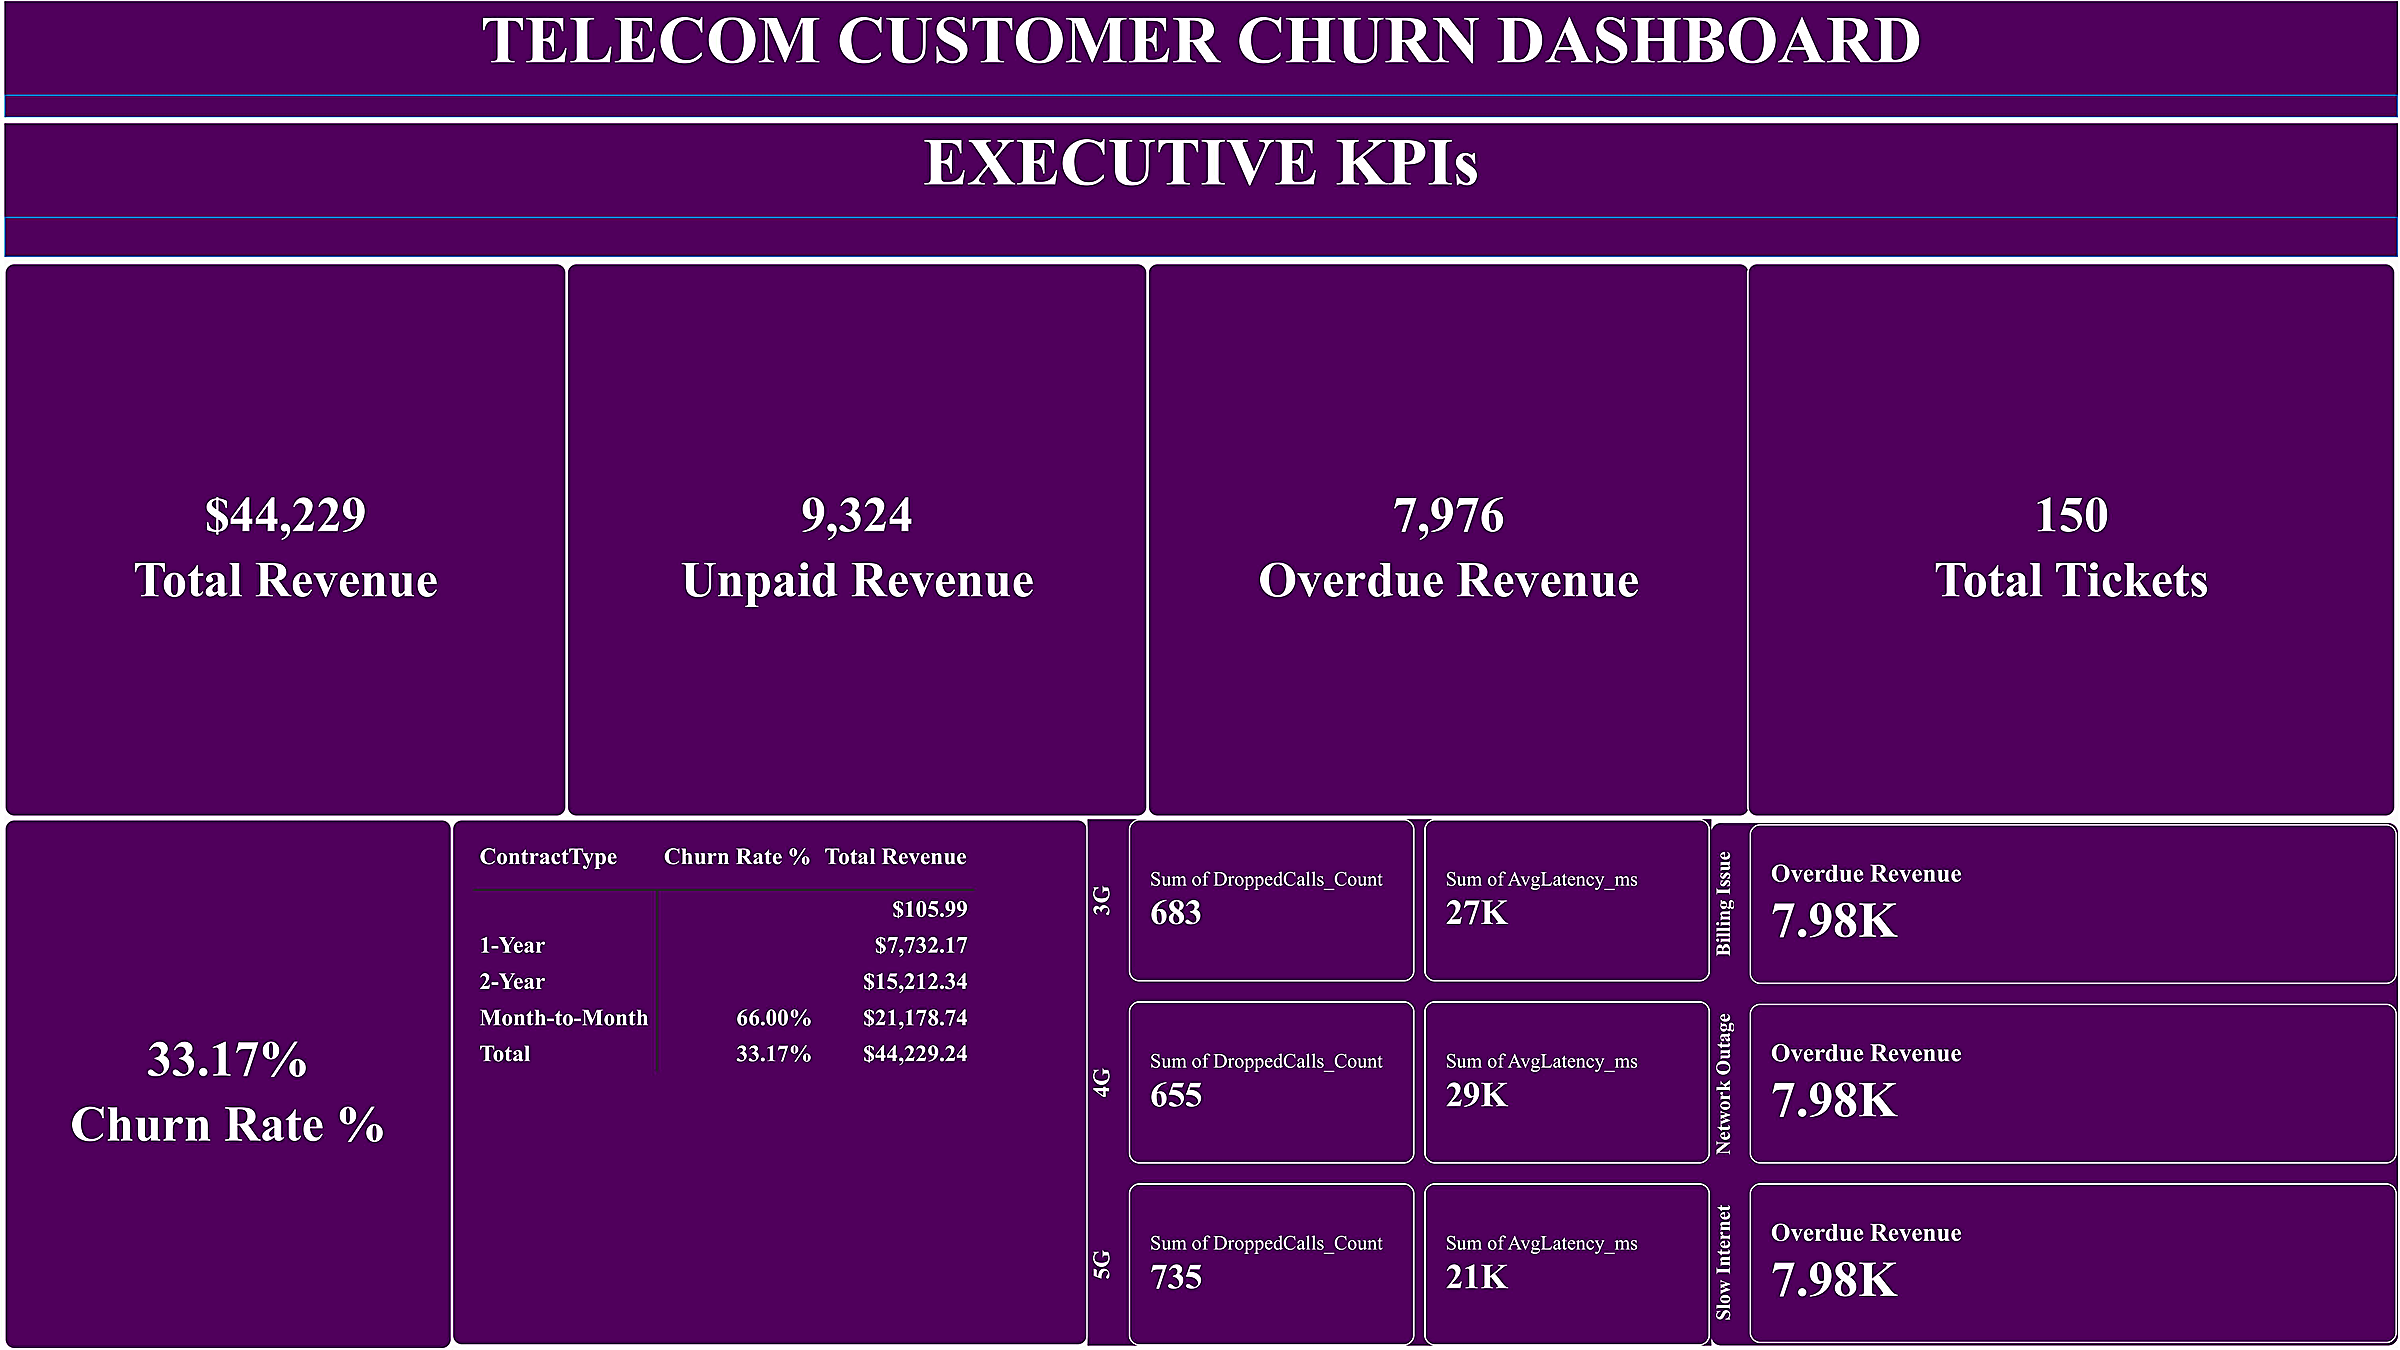

Layout of this report page (visuals, bound fields, positions):
{"tool":"powerbi","page":{"name":"Executive KPIs","canvas":[1920,1080],"ordinal":0},"visuals":[{"type":"shape","title":"TELECOM CUSTOMER CHURN DASHBOARD","box":[0,0,1920.1,92.7],"z":0},{"type":"shape","title":"EXECUTIVE KPIs","box":[0,97.6,1920.1,107.4],"z":1000},{"type":"card","fields":{"Values":["_Measures (2).Total Revenue"]},"box":[0,209.8,451.4,444],"z":2000},{"type":"card","fields":{"Values":["_Measures (2).Churn Rate %"]},"box":[0,656.3,358.7,424.5],"z":3000},{"type":"card","fields":{"Values":["_Measures (2).Unpaid Revenue"]},"box":[451.4,209.8,466,444],"z":4000},{"type":"card","fields":{"Values":["_Measures (2).Overdue Revenue"]},"box":[917.4,209.8,483.1,444],"z":5000},{"type":"card","fields":{"Values":["_Measures (2).Total Tickets"]},"box":[1398,209.8,519.7,444],"z":6000},{"type":"pivotTable","fields":{"Rows":["Customer_Directory.ContractType"],"Values":["_Measures (2).Churn Rate %","_Measures (2).Total Revenue"]},"box":[358.7,656.3,509.9,422.1],"z":7000},{"type":"cardVisual","fields":{"Data":["Sum(Service_Performance.DroppedCalls_Count)","Sum(Service_Performance.AvgLatency_ms)"],"Rows":["Service_Performance.NetworkType"]},"box":[868.6,656.3,500.2,422.1],"z":8000},{"type":"cardVisual","fields":{"Data":["_Measures (2).Overdue Revenue"],"Rows":["Support_Tickets.ComplaintCategory"]},"box":[1368.7,658.8,551.4,419.6],"z":9000}]}

Visuals, with their boxes in screenshot pixels (x1, y1, x2, y2), scaled from the page's 1920x1080 canvas onto the 2400x1350 screenshot:
"TELECOM CUSTOMER CHURN DASHBOARD" shape: box(0, 0, 2399, 116)
"EXECUTIVE KPIs" shape: box(0, 122, 2399, 256)
card - _Measures (2).Total Revenue: box(0, 262, 564, 817)
card - _Measures (2).Churn Rate %: box(0, 820, 448, 1349)
card - _Measures (2).Unpaid Revenue: box(564, 262, 1147, 817)
card - _Measures (2).Overdue Revenue: box(1147, 262, 1751, 817)
card - _Measures (2).Total Tickets: box(1748, 262, 2397, 817)
pivotTable - Customer_Directory.ContractType x _Measures (2).Churn Rate %: box(448, 820, 1086, 1348)
cardVisual - Sum(Service_Performance.DroppedCalls_Count) x Sum(Service_Performance.AvgLatency_ms): box(1086, 820, 1711, 1348)
cardVisual - _Measures (2).Overdue Revenue x Support_Tickets.ComplaintCategory: box(1711, 824, 2399, 1348)
